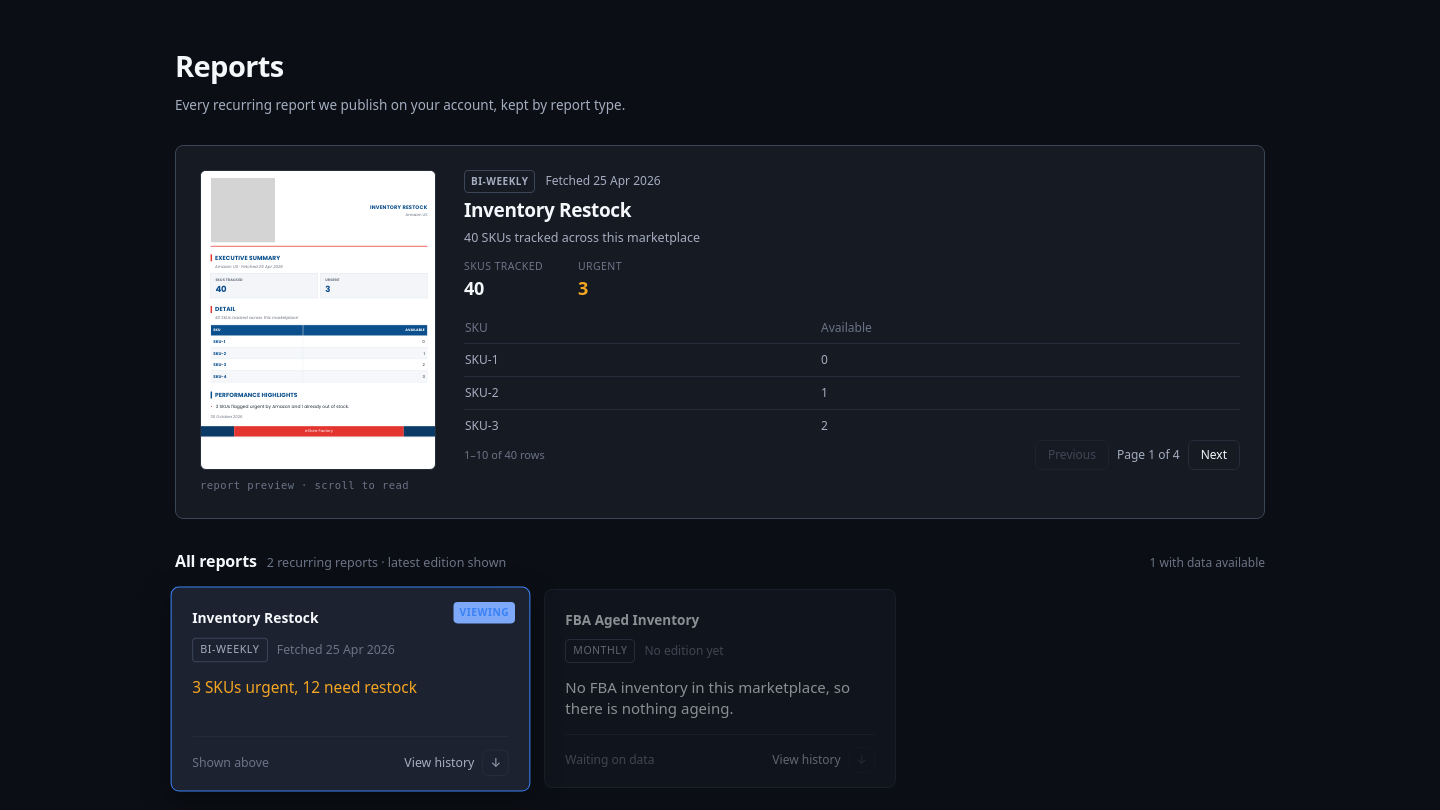
Test: ESF Reports page › keeps the visible rows when a page fetch fails
Expected: the text "1–10 of 40 rows" is shown, [464,446,545,462]
Click the button "Next".
click(1214, 455)  # box [1188,440,1240,470]
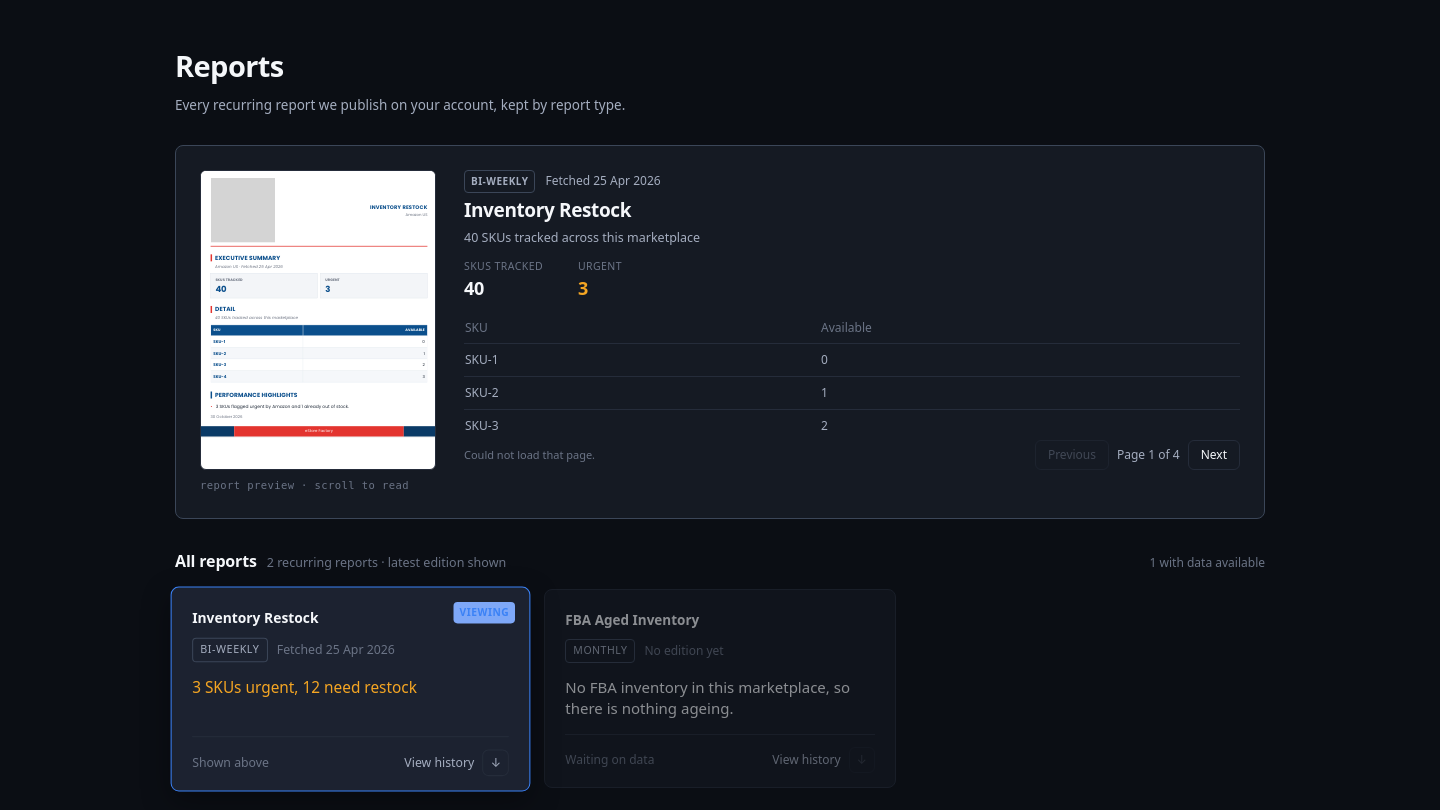
Expected: the text "SKU-1" below "Detail" is shown, [213,338,225,344]
Expected: the text "Could not load that page." is shown, [464,446,595,462]
